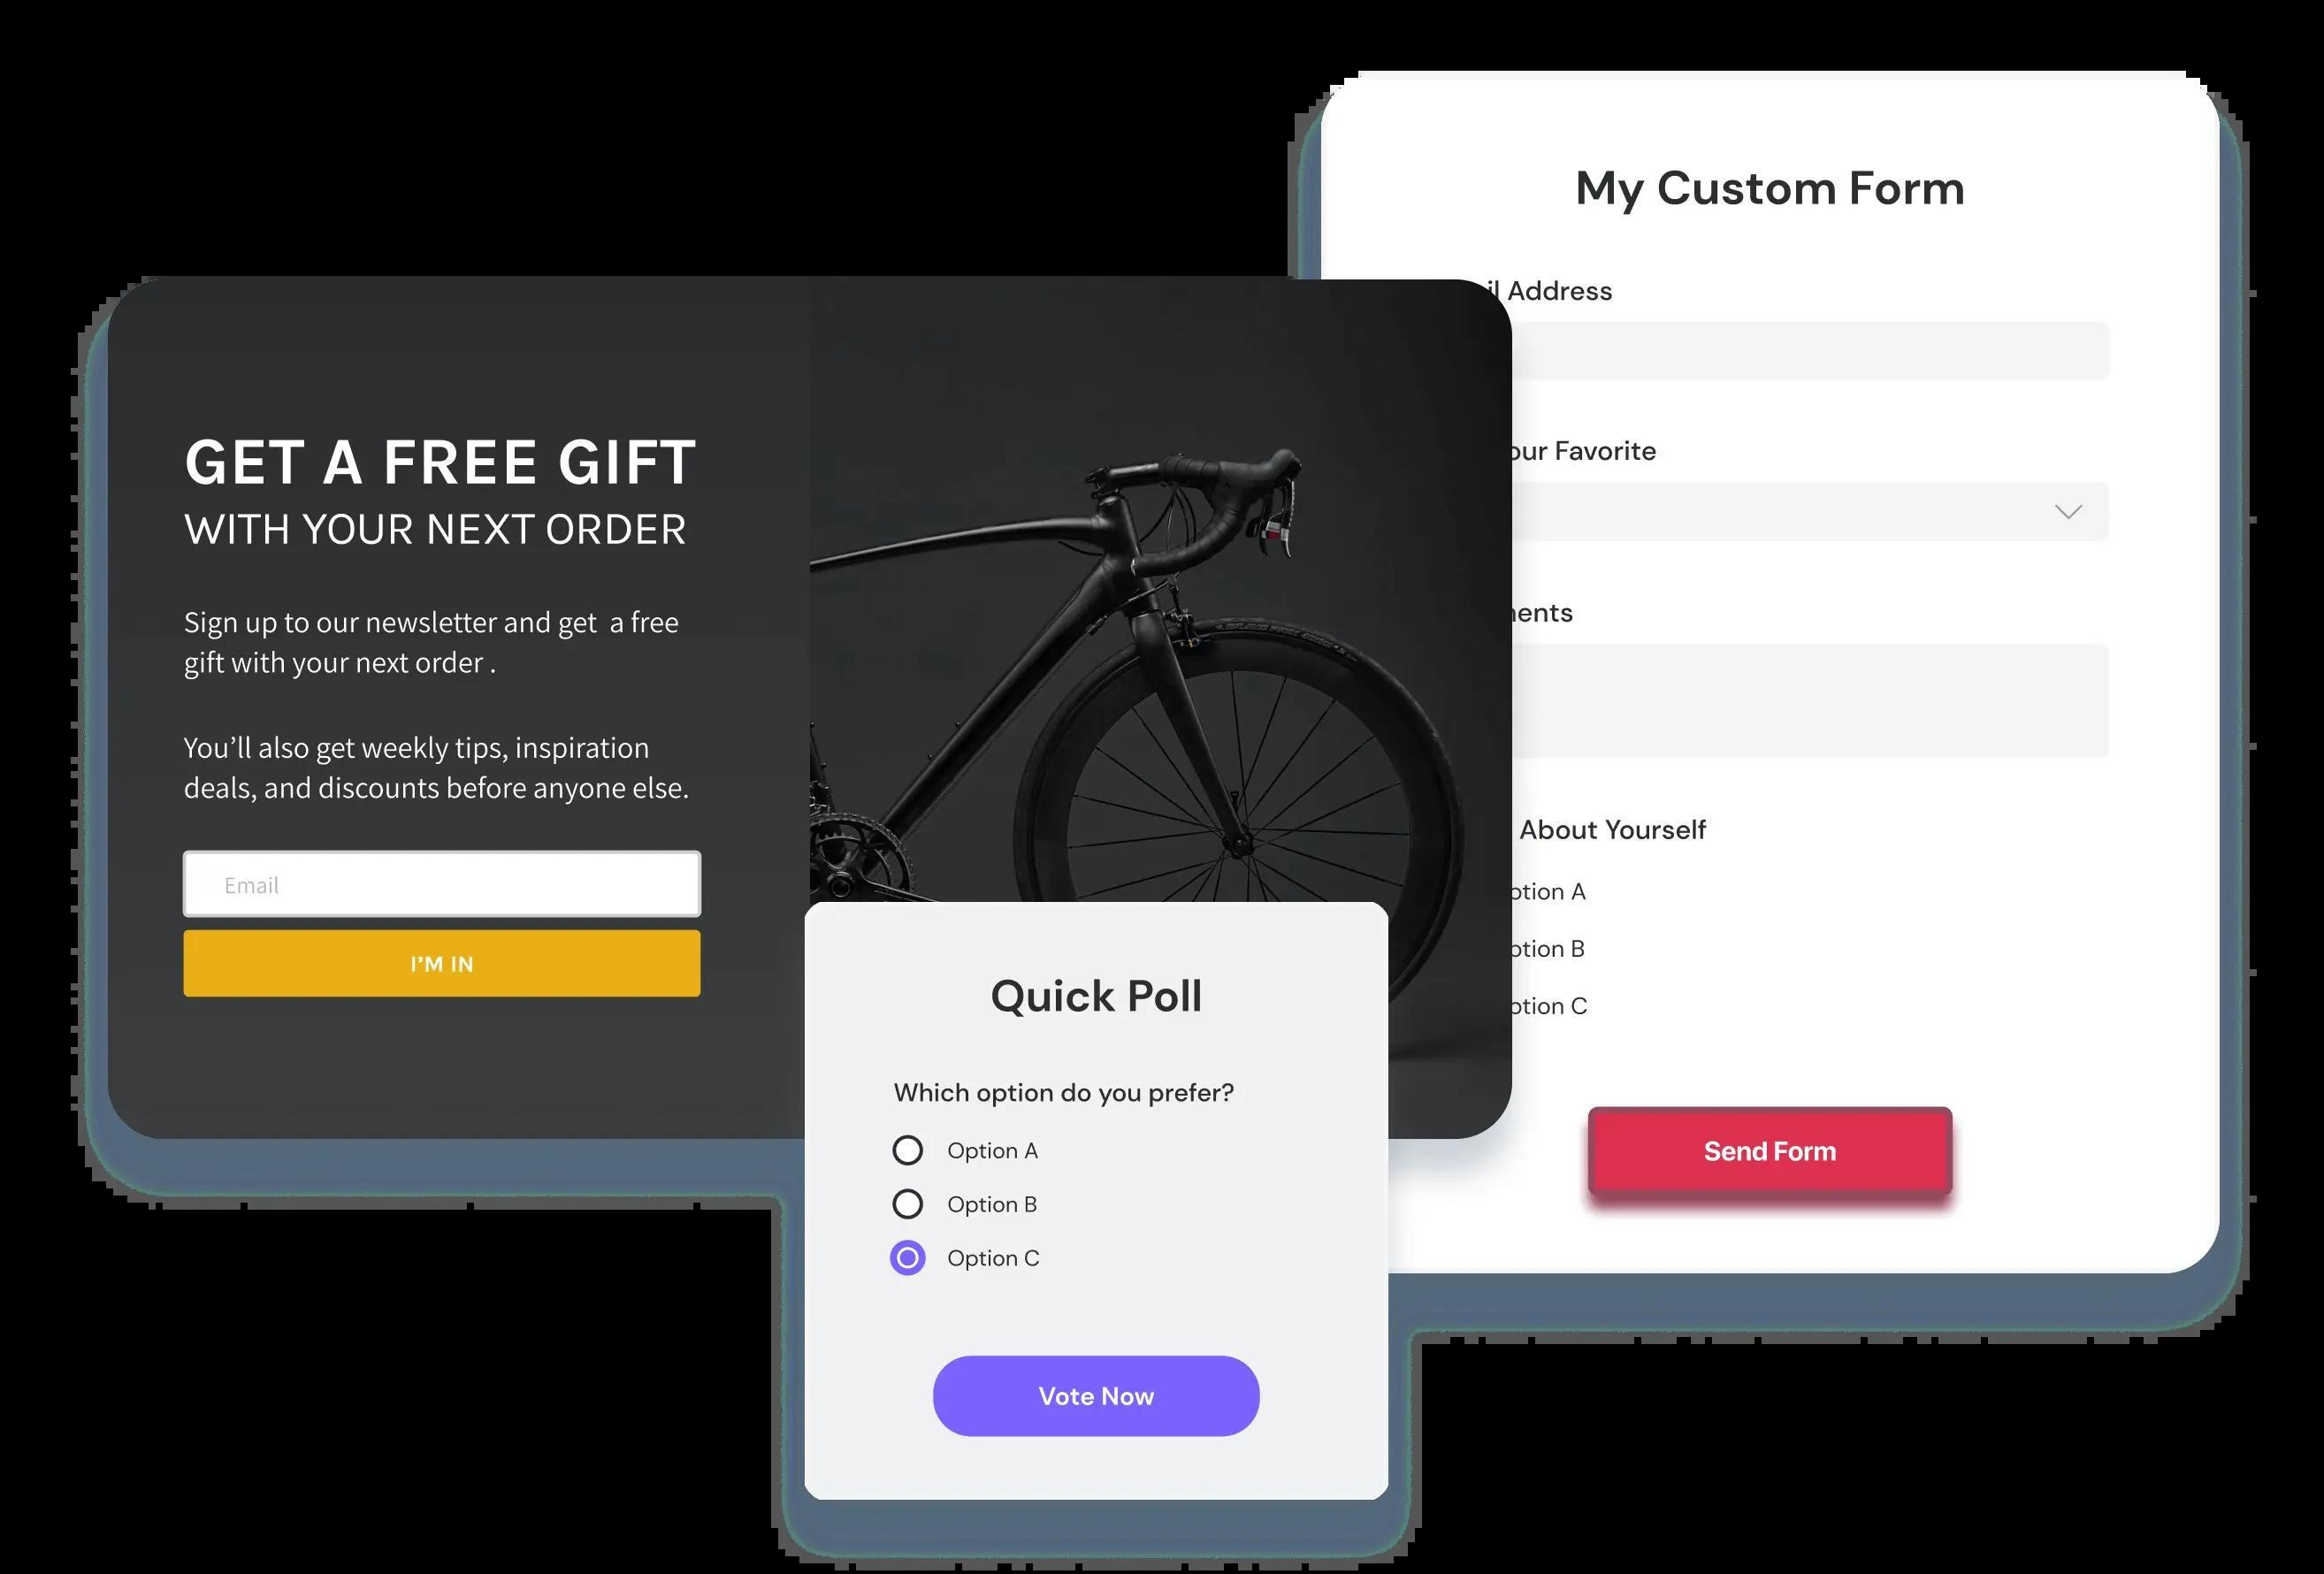button: (184, 931, 703, 998), (1590, 1108, 1953, 1196), (933, 1354, 1263, 1437)
input: (184, 852, 703, 919)
label: (193, 437, 703, 492), (1569, 169, 1969, 225), (891, 1079, 1237, 1108), (945, 1247, 1043, 1272), (947, 1140, 1040, 1163), (947, 1195, 1040, 1217)
radio: (889, 1240, 927, 1277), (891, 1135, 927, 1166), (892, 1188, 926, 1219)
